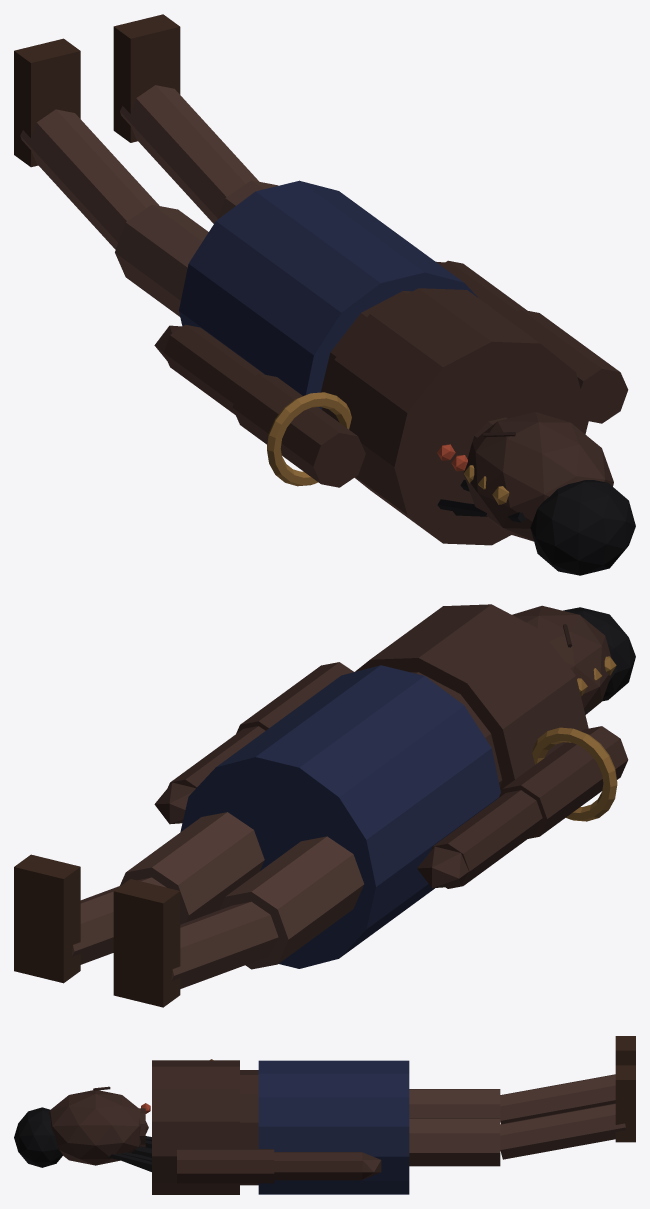
Rendered from adanna_m1_technical_proxy.obj.
3 views of the same model, one above another, from view 1: azimuth 30°, elevation 25°; view 2: azimuth 150°, elevation 25°; view 3: azimuth 270°, elevation 25° (orthographic). The views are drawn at different scales.
Size of the model in its own units: 0.735 by 0.4629 by 1.98.
